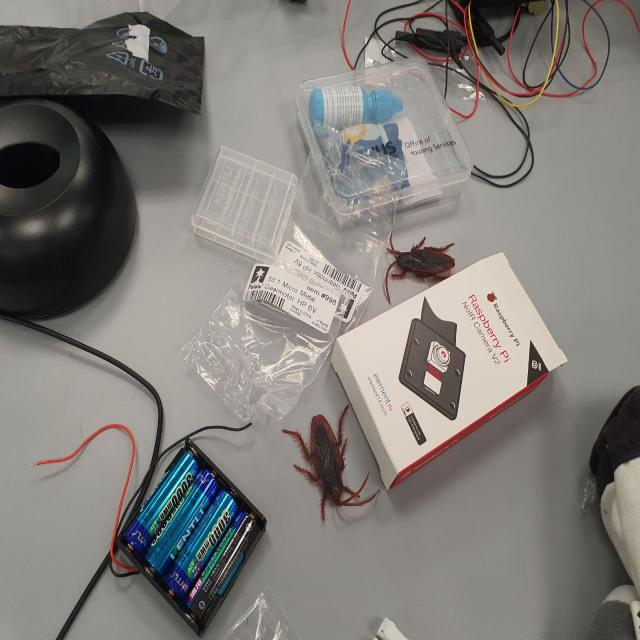Cockroach: (284, 396, 384, 530), (381, 205, 457, 309)
